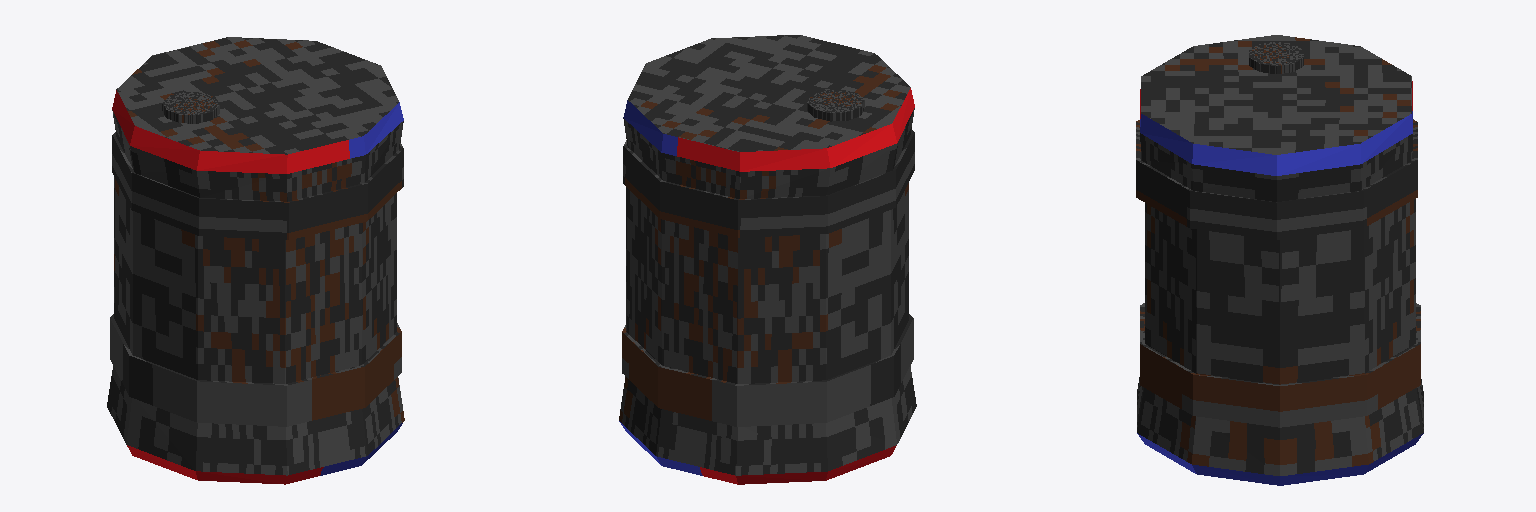
3 renders of one model, left to right at view 1: azimuth 30°, elevation 25°; view 2: azimuth 150°, elevation 25°; view 3: azimuth 270°, elevation 25°, orthographic.
Parts seen in each view (by area): view 1: qqw; view 2: qqw; view 3: qqw.
Part boxes in pixels (bbox=[...]): qqw: bbox=[107, 37, 404, 484]; qqw: bbox=[619, 35, 916, 484]; qqw: bbox=[1136, 35, 1423, 485].
Size of the model in its own units: 27.32 by 34.27 by 26.33.
1 materials, 1 textured.